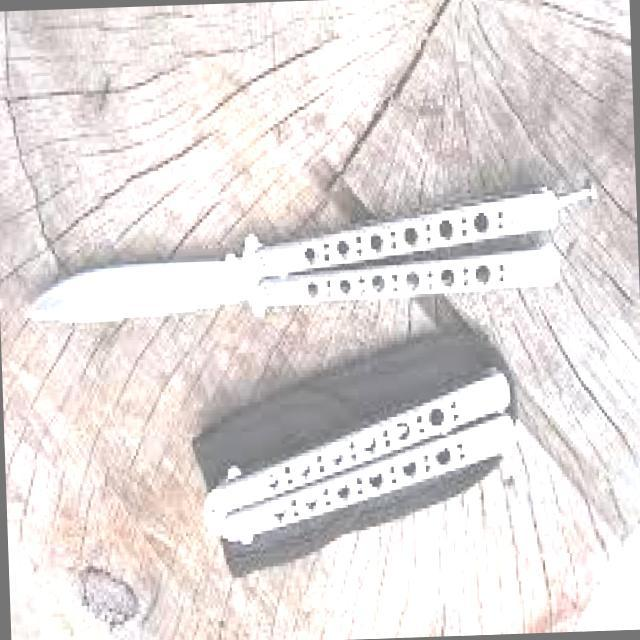Knife: (8, 158, 614, 365)
